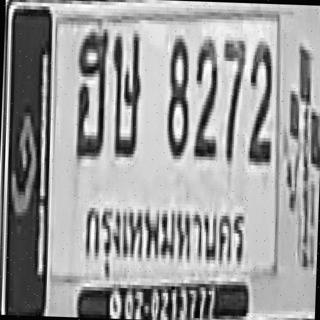A39: (109, 30, 142, 154)
A44: (74, 26, 108, 158)
N02: (246, 38, 274, 162), (192, 36, 218, 156)
N07: (218, 36, 246, 158)
N08: (164, 34, 190, 156)
P04: (81, 191, 251, 286)
